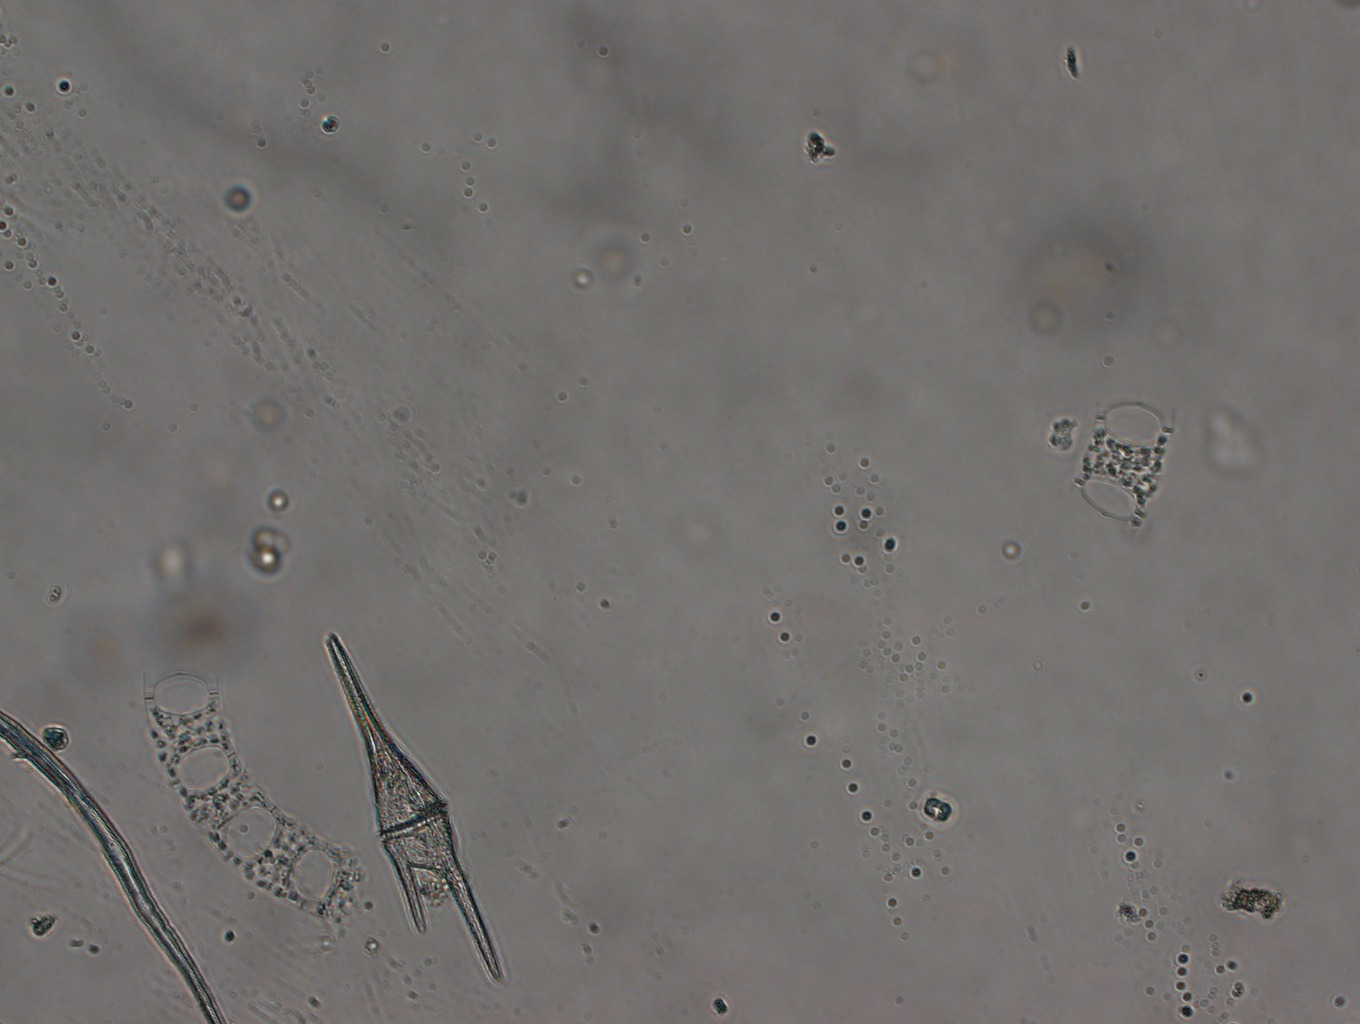ceratium furca: (323, 629, 502, 987)
eucampia: (126, 664, 360, 930), (1065, 376, 1180, 542)
